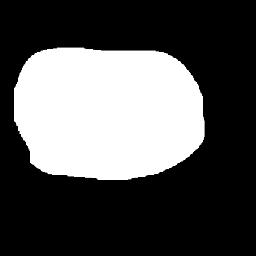mass: (16, 48, 191, 169)
